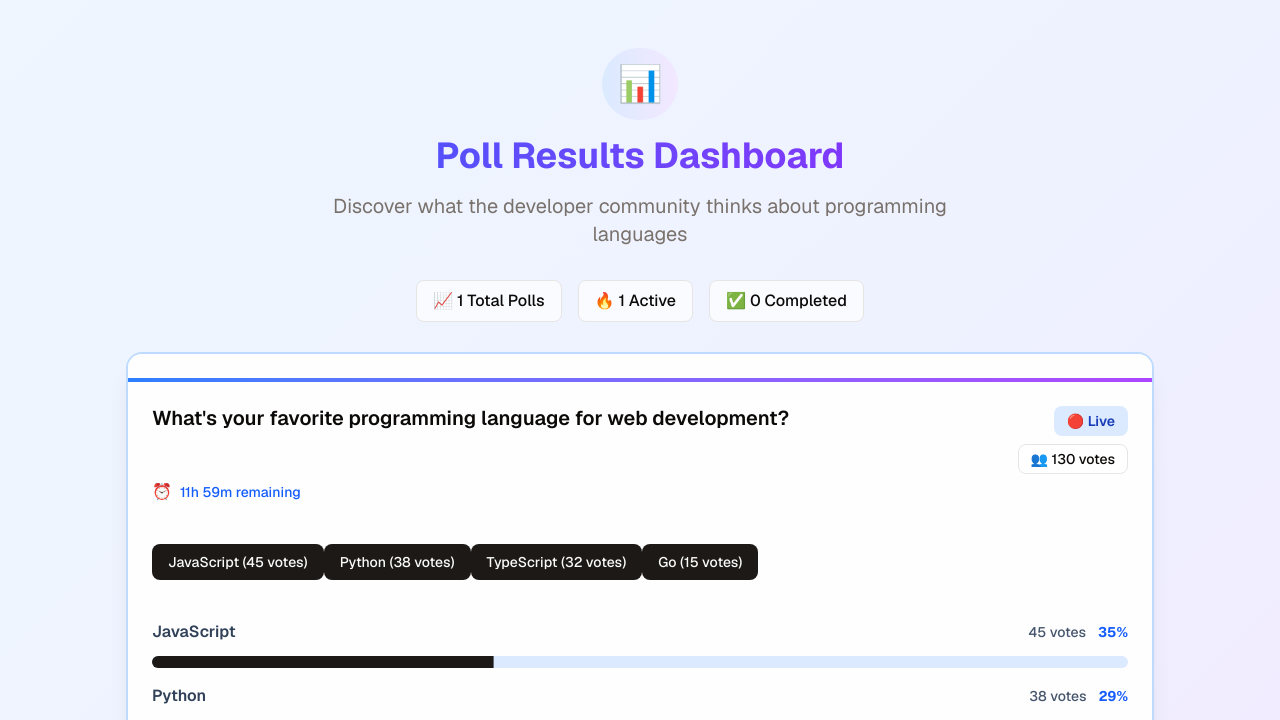
Scenario: optimistic voting updates UI and syncs with API results
Expected: the text "What's your favorite programming language for web development" is shown, [152,405,789,431]
Click the button "JavaScript (45 votes)" at [238, 562], box [152,544,324,580]
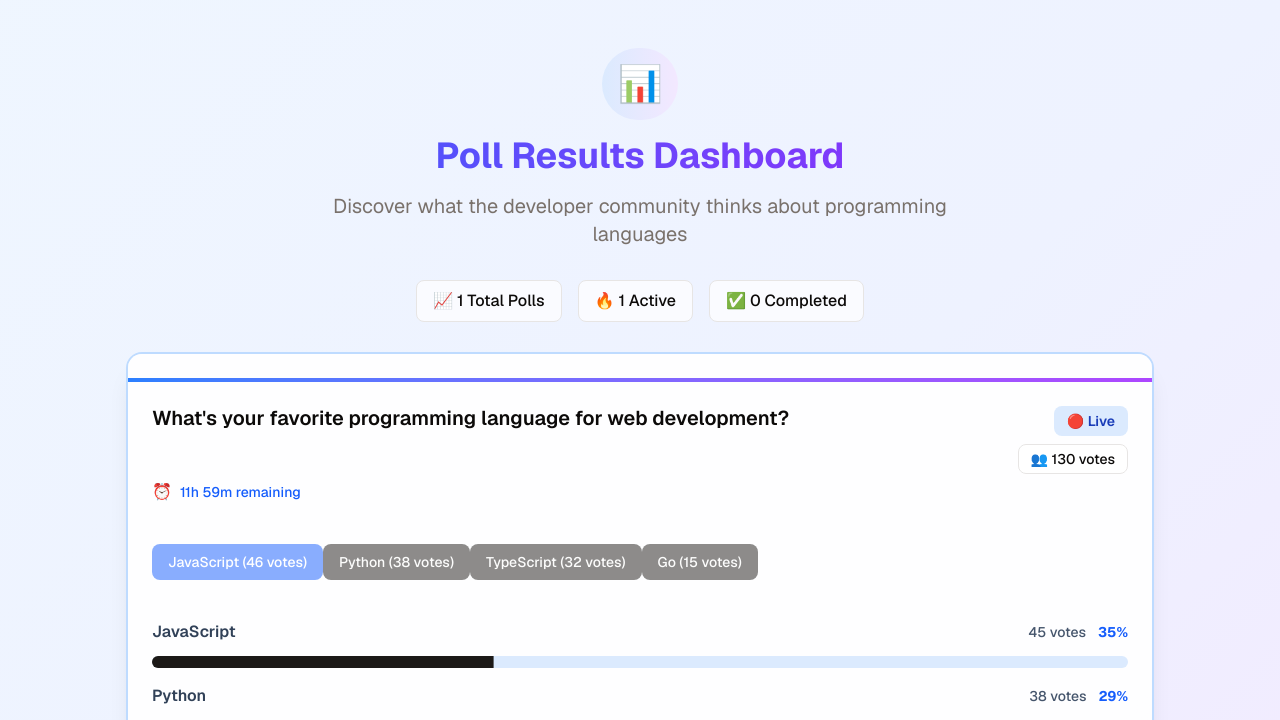
Now the button "JavaScript (46 votes)" is disabled, box [152,544,323,580]
